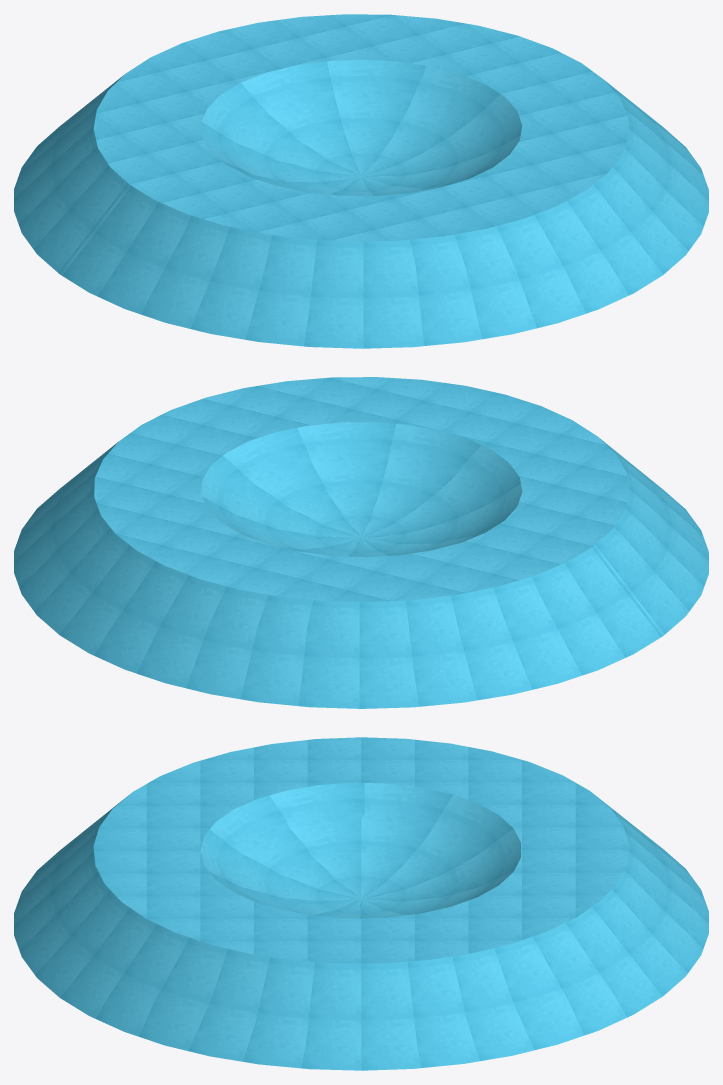
File: BaseGema.obj
The picture shows the model from 3 angles, top to bottom: view 1: azimuth 30°, elevation 25°; view 2: azimuth 150°, elevation 25°; view 3: azimuth 270°, elevation 25°; orthographic projection.
Visible parts, largest first — view 1: Body1; view 2: Body1; view 3: Body1.
Part boxes in pixels (bbox=[...]): Body1: bbox=[14, 14, 708, 348]; Body1: bbox=[14, 377, 708, 708]; Body1: bbox=[14, 737, 708, 1070].
Bounding box in the file's own units: 14.99 × 1.77 × 14.95.
